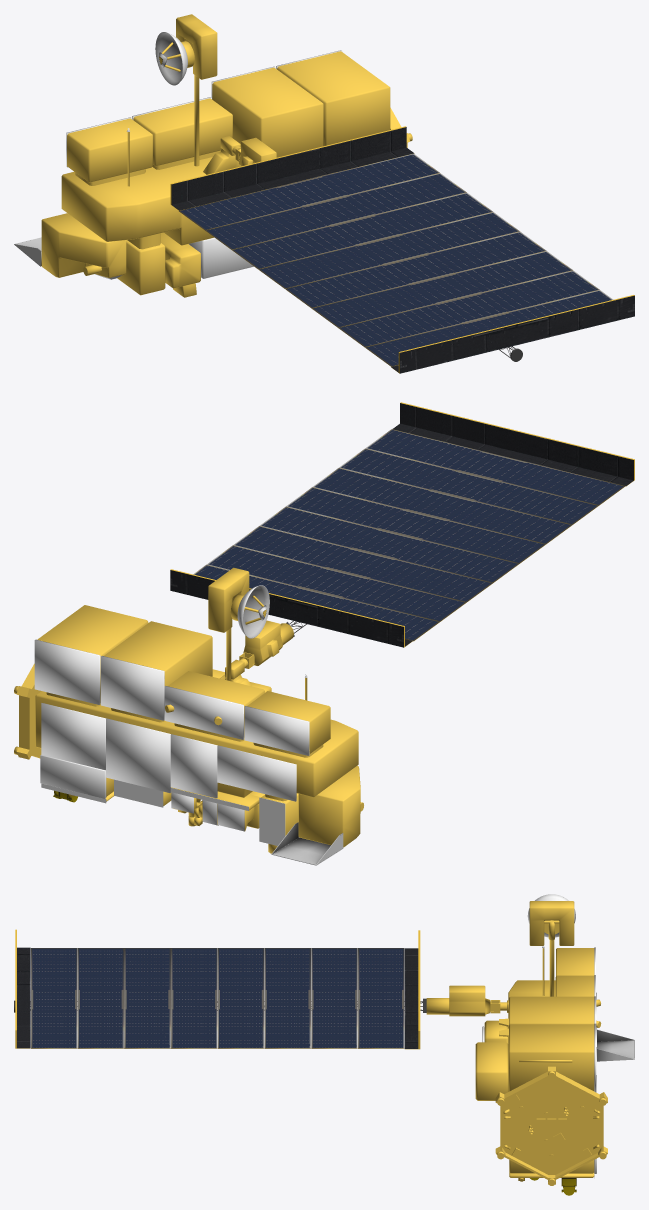
The model's file is Terra.glb.
3 renders of one model, top to bottom at view 1: azimuth 30°, elevation 25°; view 2: azimuth 150°, elevation 25°; view 3: azimuth 270°, elevation 25°, orthographic. The views are drawn at different scales.
Visible parts, largest first — view 1: Solar_Panel_Assembly, BUS, Dish_Top_Base, Dish_Top, Solar_Panel_Base; view 2: Solar_Panel_Assembly, BUS, Dish_Top_Base, Dish_Top; view 3: Solar_Panel_Assembly, BUS, Dish_Top_Base.
Part boxes in pixels (box(x1,y1,x2,y2)): Solar_Panel_Assembly: box(170, 126, 634, 373); BUS: box(14, 50, 412, 297); Dish_Top_Base: box(176, 14, 217, 166); Dish_Top: box(155, 32, 194, 85); Solar_Panel_Base: box(203, 136, 240, 174); Solar_Panel_Assembly: box(170, 402, 634, 668); BUS: box(14, 605, 363, 865); Dish_Top_Base: box(208, 567, 249, 681); Dish_Top: box(230, 585, 269, 638); Solar_Panel_Assembly: box(14, 929, 506, 1049); BUS: box(475, 946, 634, 1195); Dish_Top_Base: box(529, 901, 574, 996).
Bounding box in the file's own units: 6.86 × 5.18 × 13.13.
Materials: 9 (4 with a texture image).
